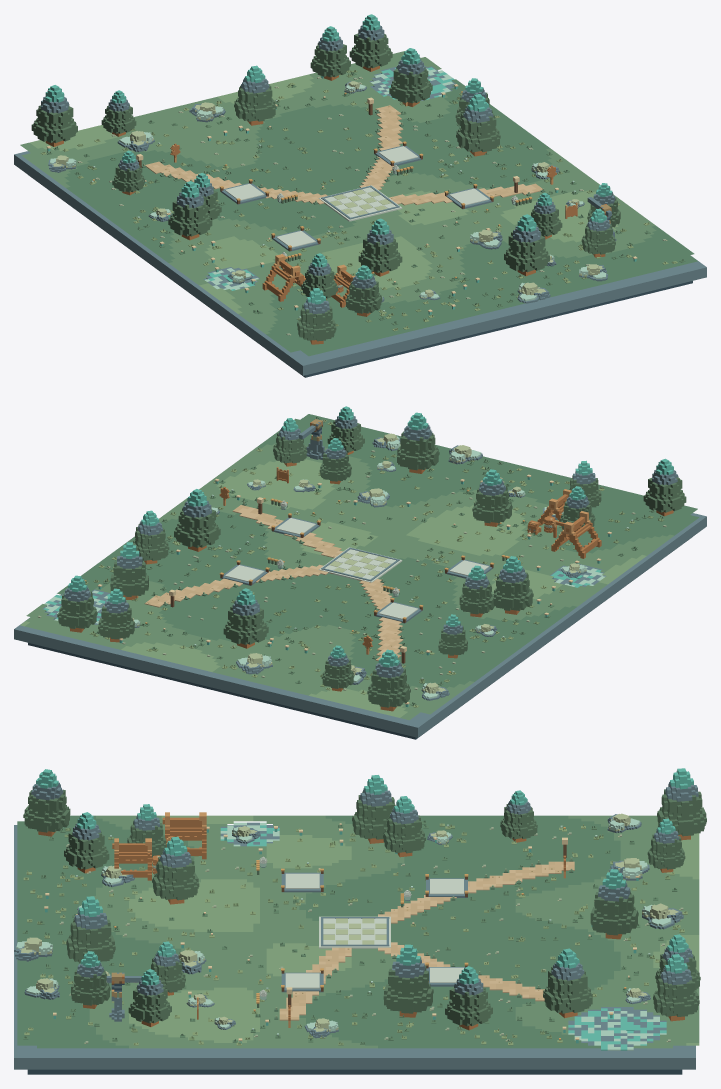
Rendered from defense_purified.glb.
The picture shows the model from 3 angles, top to bottom: view 1: azimuth 30°, elevation 25°; view 2: azimuth 150°, elevation 25°; view 3: azimuth 270°, elevation 25°; orthographic projection. The views are drawn at different scales.
Parts seen in each view (by area): view 1: defense_ground, defense_occluders; view 2: defense_ground, defense_occluders; view 3: defense_ground, defense_occluders.
Part boxes in pixels (left/top/right/bottom): defense_ground: left=14, top=51, right=706, bottom=377; defense_occluders: left=31, top=14, right=620, bottom=344; defense_ground: left=14, top=414, right=706, bottom=739; defense_occluders: left=57, top=406, right=686, bottom=711; defense_ground: left=14, top=815, right=699, bottom=1074; defense_occluders: left=14, top=768, right=706, bottom=1030.
Bounding box in the file's own units: 42.25 × 9 × 52.85.
